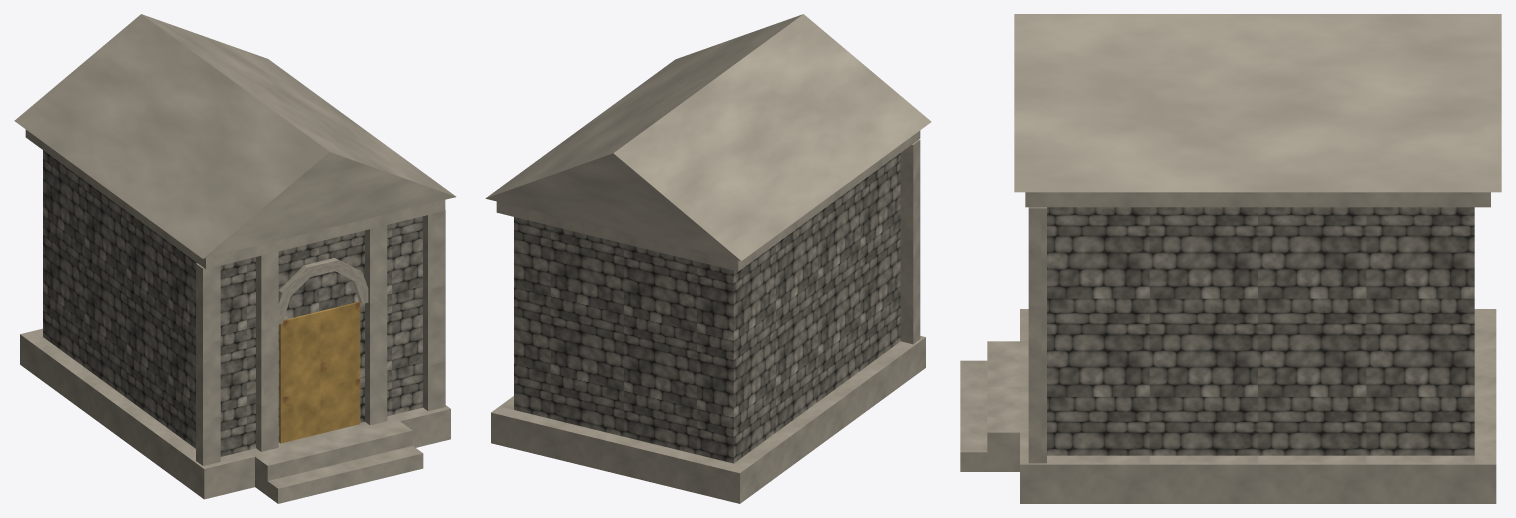
The model's file is Mausoleum_Small_1_LOD2.gltf.
The picture shows the model from 3 angles, left to right: view 1: azimuth 30°, elevation 25°; view 2: azimuth 150°, elevation 25°; view 3: azimuth 270°, elevation 25°; orthographic projection. The views are drawn at different scales.
Visible parts, largest first — view 1: Mausoleum_Small_1_LOD2; view 2: Mausoleum_Small_1_LOD2; view 3: Mausoleum_Small_1_LOD2.
Part boxes in pixels (x1=…): Mausoleum_Small_1_LOD2: x1=14, y1=14, x2=456, y2=503; Mausoleum_Small_1_LOD2: x1=485, y1=14, x2=931, y2=503; Mausoleum_Small_1_LOD2: x1=960, y1=14, x2=1501, y2=503.
Bounding box in the file's own units: 3.5 × 4.2 × 5.
Materials: 3 (3 with a texture image).
